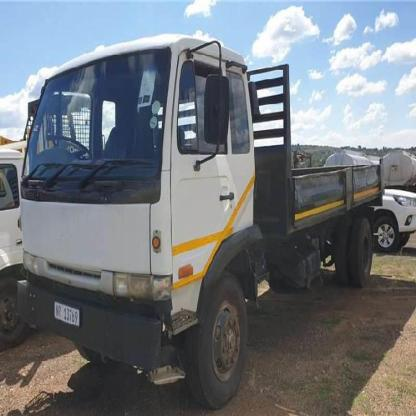dump_truck: (13, 35, 386, 413)
